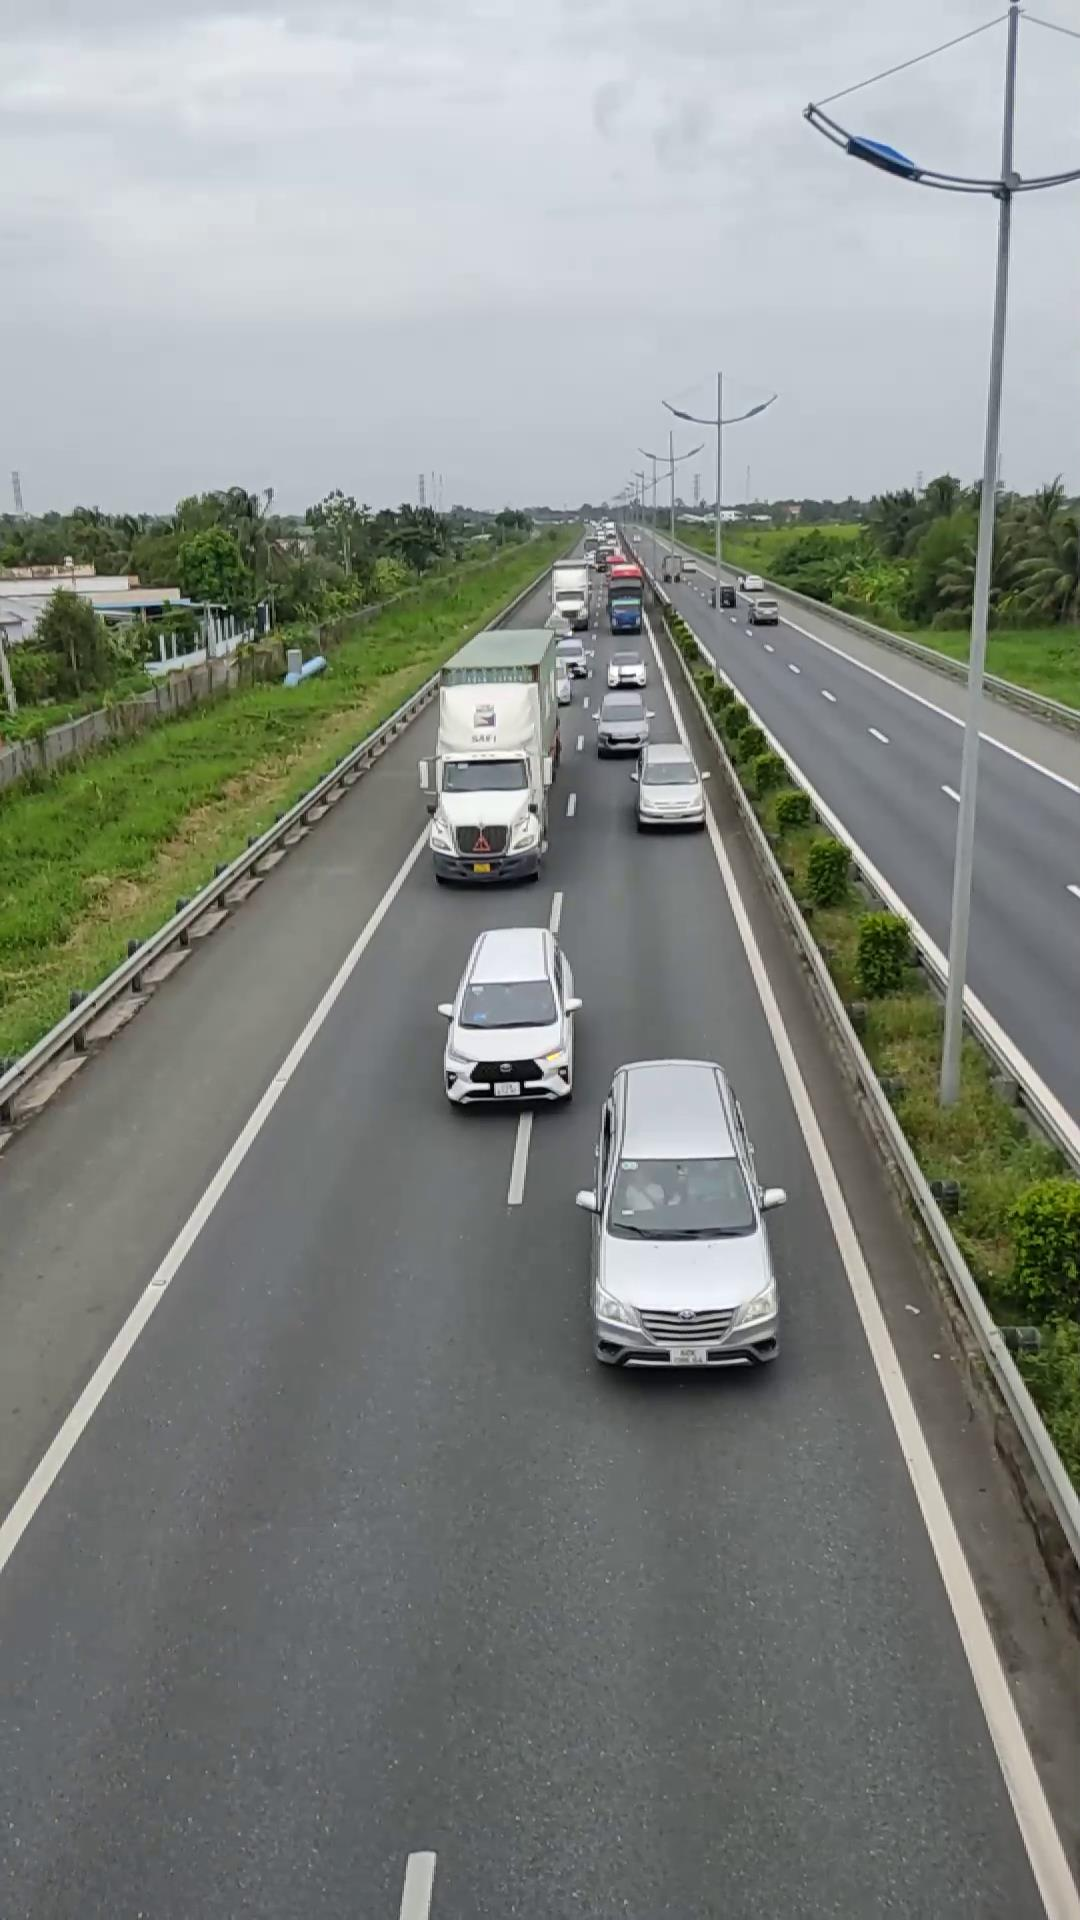car: (578, 1056, 784, 1373), (437, 926, 581, 1108), (631, 742, 708, 831)
container: (423, 626, 560, 885)
